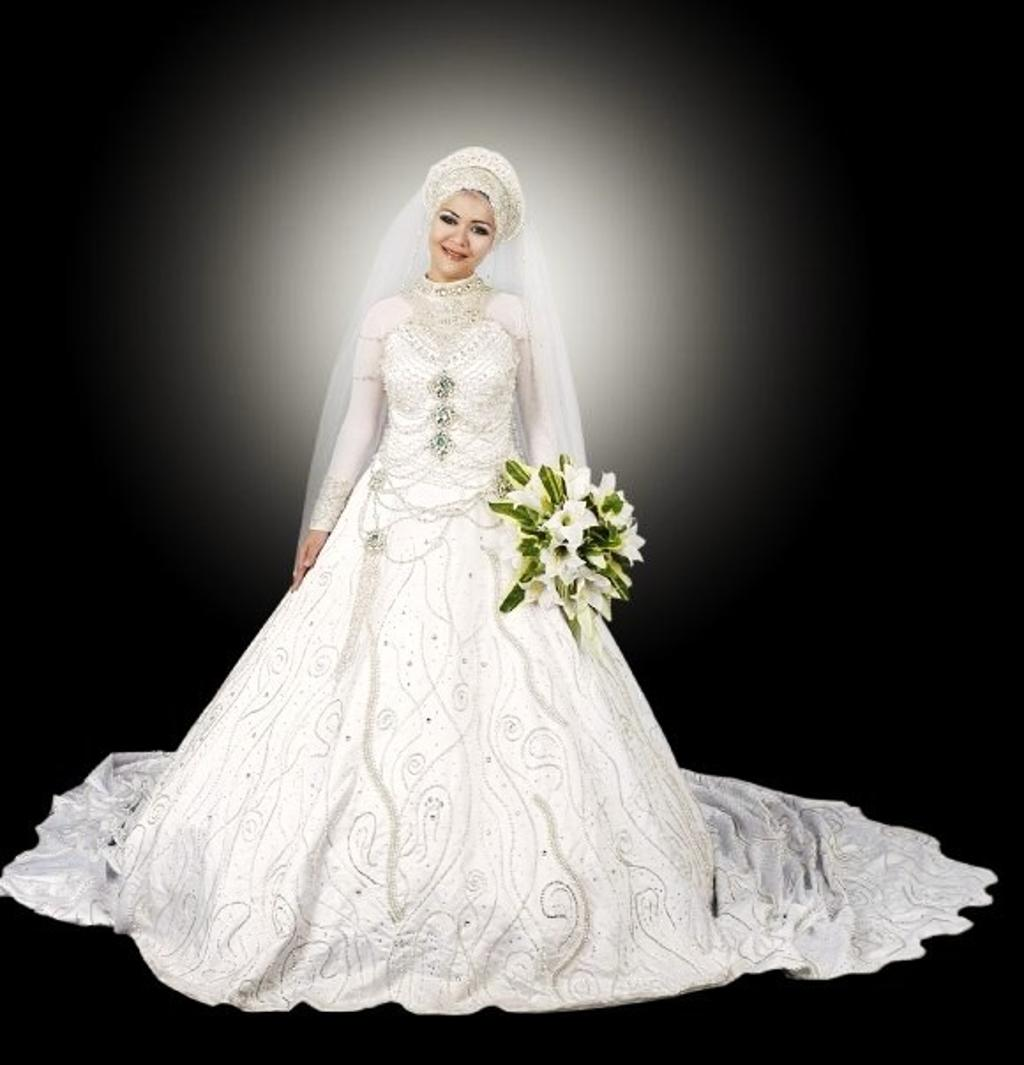face: (431, 194, 496, 273)
